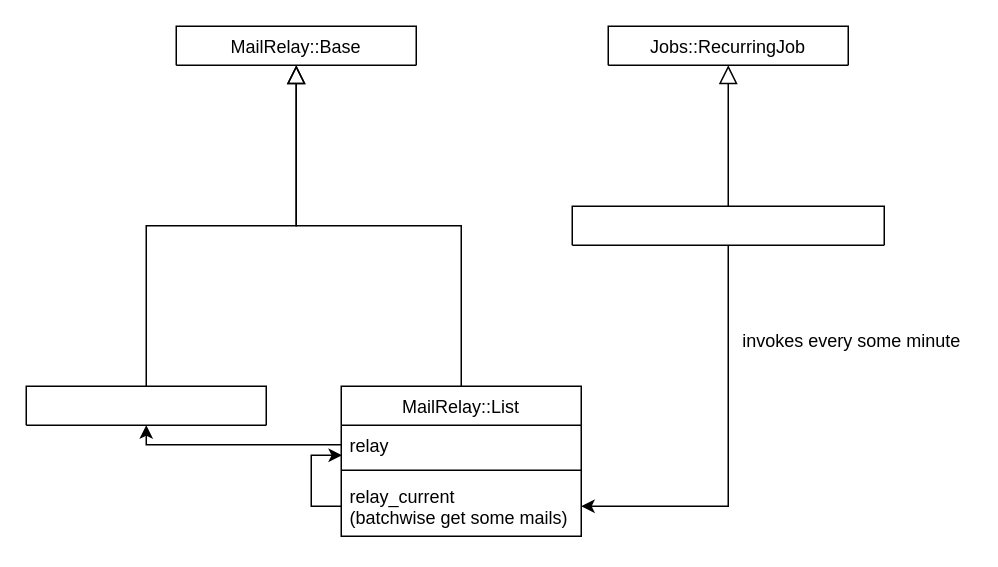
Some shapes in this 998 by 567 pixel diagram are drawn without their labels. Each missing label, with the box of its shape:
MailRelay::BulkMail: (25, 385, 266, 425)
RecurringJob::MailRelayJob: (571, 205, 884, 245)
